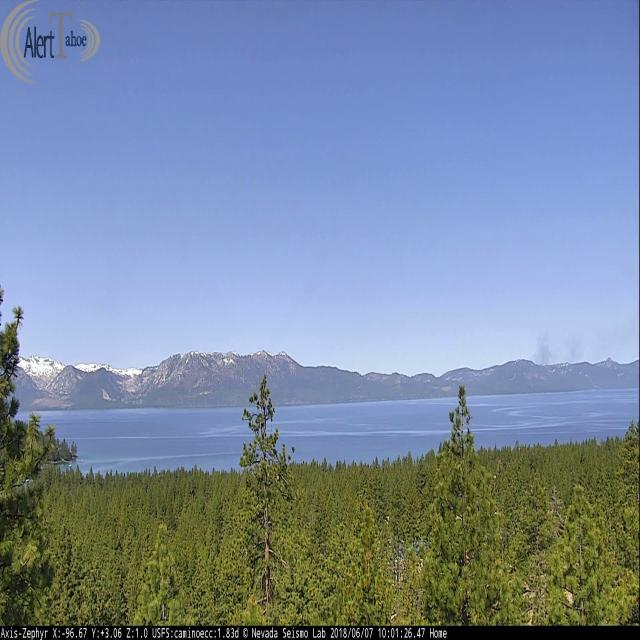smoke: (521, 328, 594, 391)
